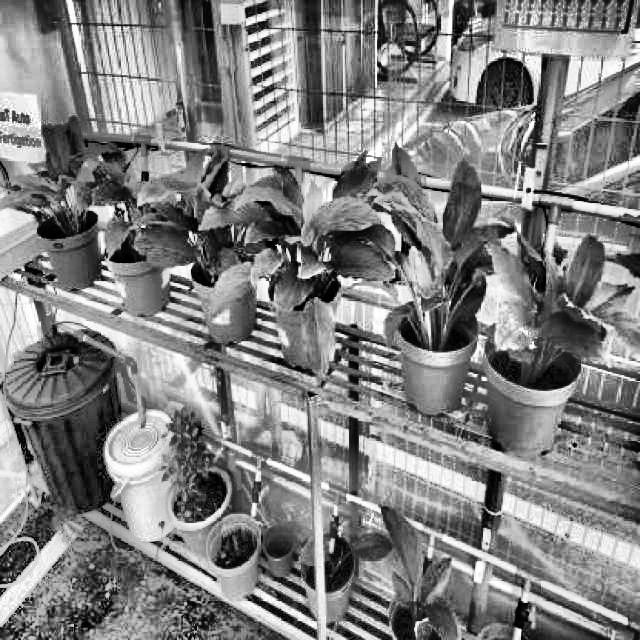plants: (235, 148, 396, 384), (374, 142, 517, 350), (494, 212, 638, 374), (132, 143, 272, 283), (0, 114, 125, 228), (74, 140, 178, 266)
